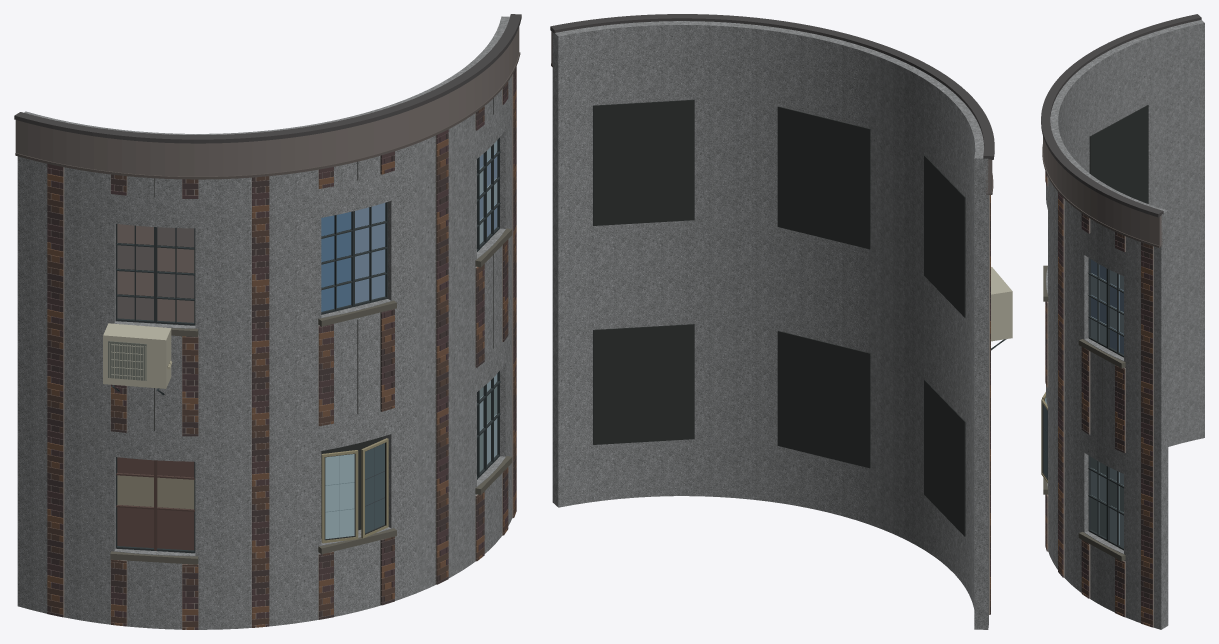
File: changning-yuyuan-lane-749-curved-front-lod.glb
The picture shows the model from 3 angles, left to right: view 1: azimuth 30°, elevation 25°; view 2: azimuth 150°, elevation 25°; view 3: azimuth 270°, elevation 25°; orthographic projection. The views are drawn at different scales.
Visible parts, largest first — view 1: 2018年署名「愚园路749弄65号」照片中的灰色弧面住宅; view 2: 2018年署名「愚园路749弄65号」照片中的灰色弧面住宅; view 3: 2018年署名「愚园路749弄65号」照片中的灰色弧面住宅.
Boxes of the visible parts, x1,y1,x2,y2 form: 2018年署名「愚园路749弄65号」照片中的灰色弧面住宅: (14, 14, 521, 629); 2018年署名「愚园路749弄65号」照片中的灰色弧面住宅: (550, 14, 1012, 629); 2018年署名「愚园路749弄65号」照片中的灰色弧面住宅: (1041, 14, 1204, 629).
Bounding box in the file's own units: 8.11 × 7.89 × 2.81.
31 materials, 1 textured.
